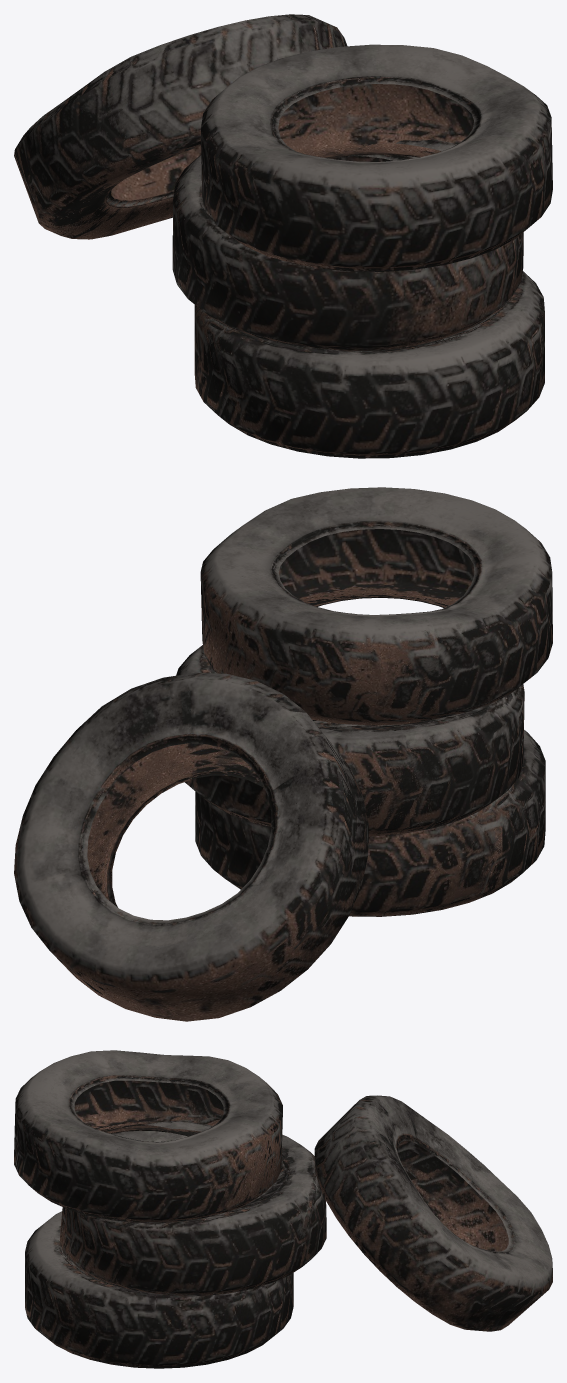
Rendered from llantas_deco.obj.
3 renders of one model, top to bottom at view 1: azimuth 30°, elevation 25°; view 2: azimuth 150°, elevation 25°; view 3: azimuth 270°, elevation 25°, orthographic. The views are drawn at different scales.
Visible parts, largest first — view 1: defaultMaterial; view 2: defaultMaterial; view 3: defaultMaterial.
Part boxes in pixels (left/top/right/bottom): defaultMaterial: left=14, top=14, right=552, bottom=458; defaultMaterial: left=14, top=487, right=552, bottom=1021; defaultMaterial: left=14, top=1050, right=552, bottom=1368.
Bounding box in the file's own units: 1 × 0.911 × 2.
Materials: 1 (1 with a texture image).
